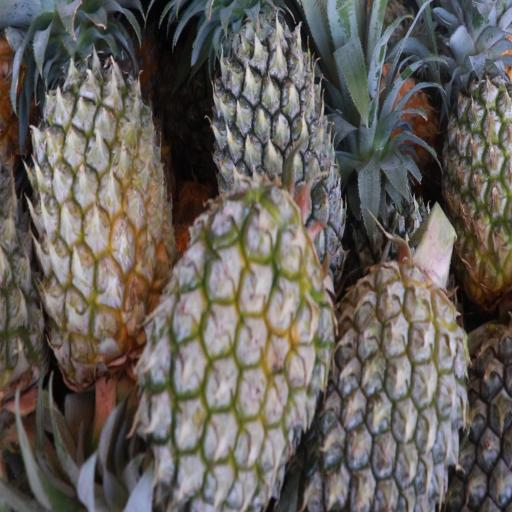------------------------------: (142, 191, 321, 512), (34, 0, 170, 367), (439, 68, 512, 293)
